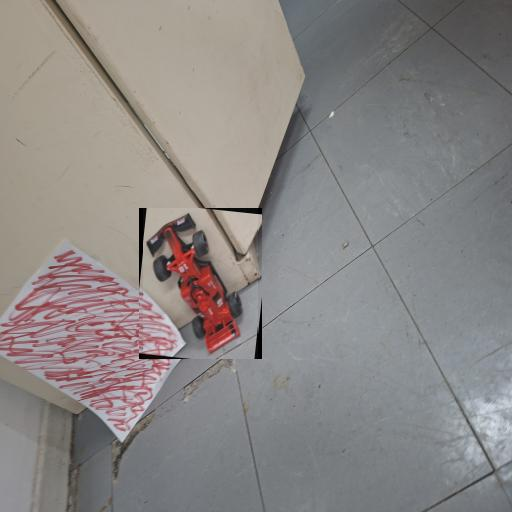carro: (144, 208, 258, 359)
